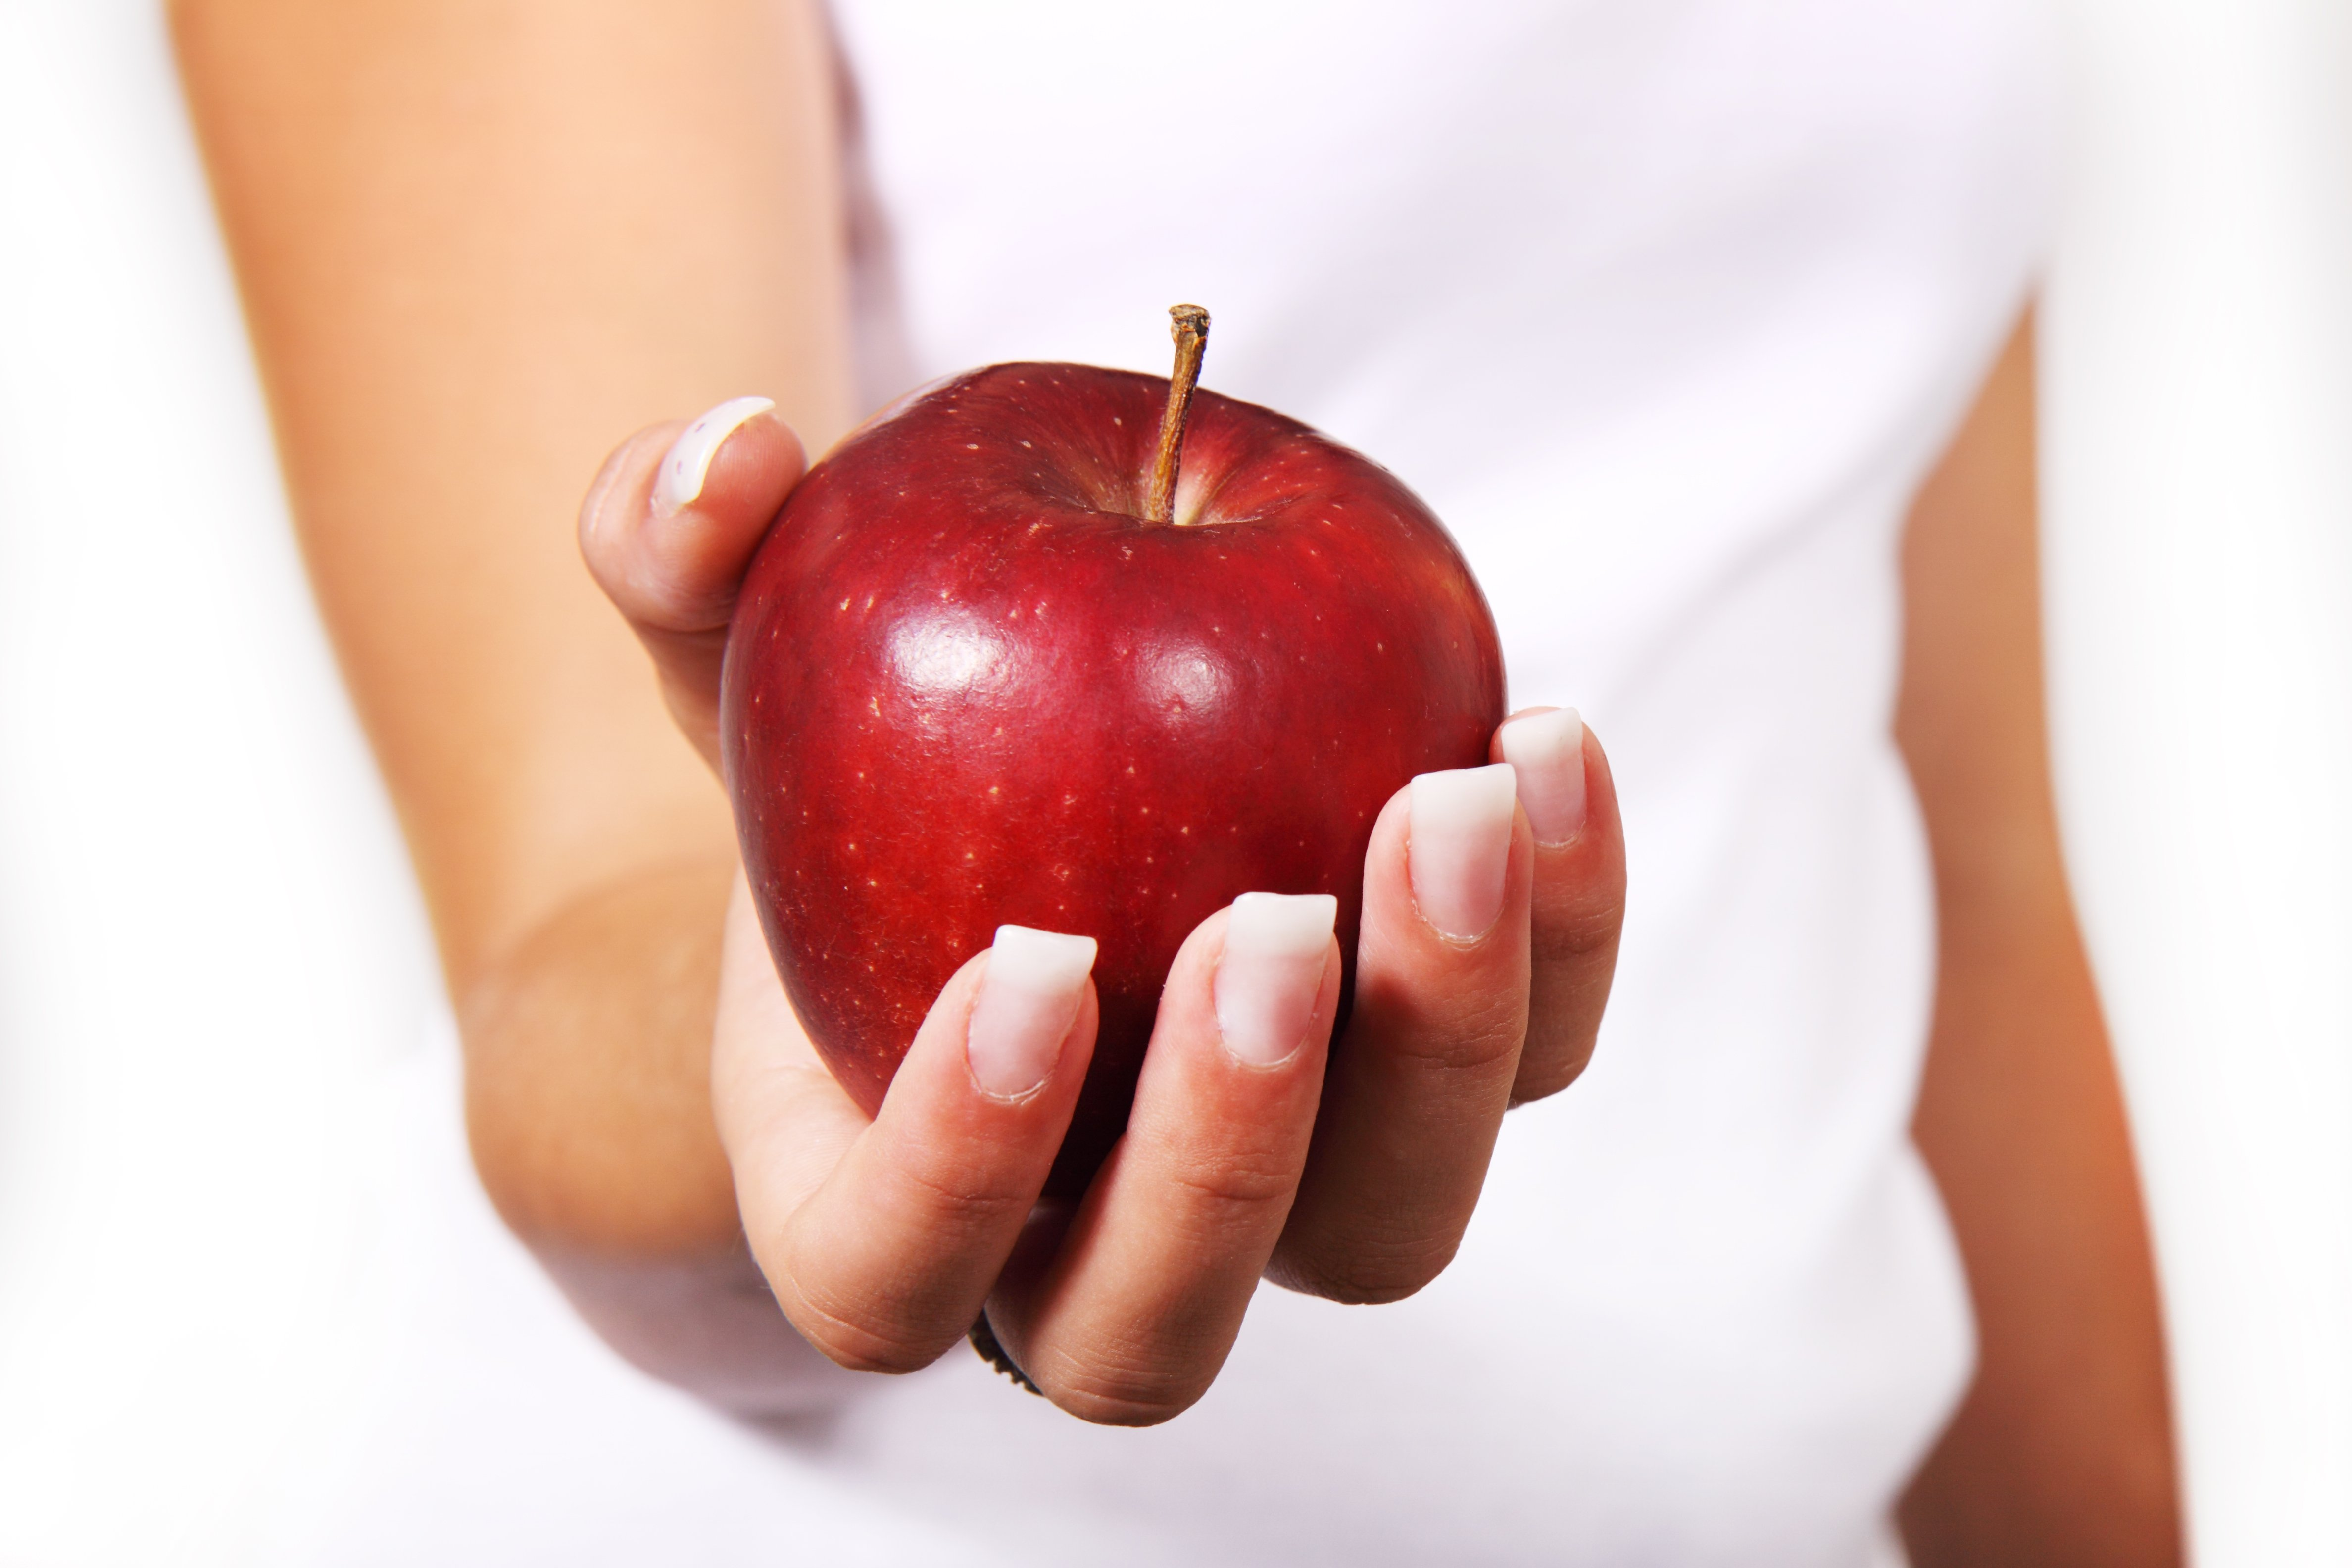Apple: (719, 360, 1510, 1108)
